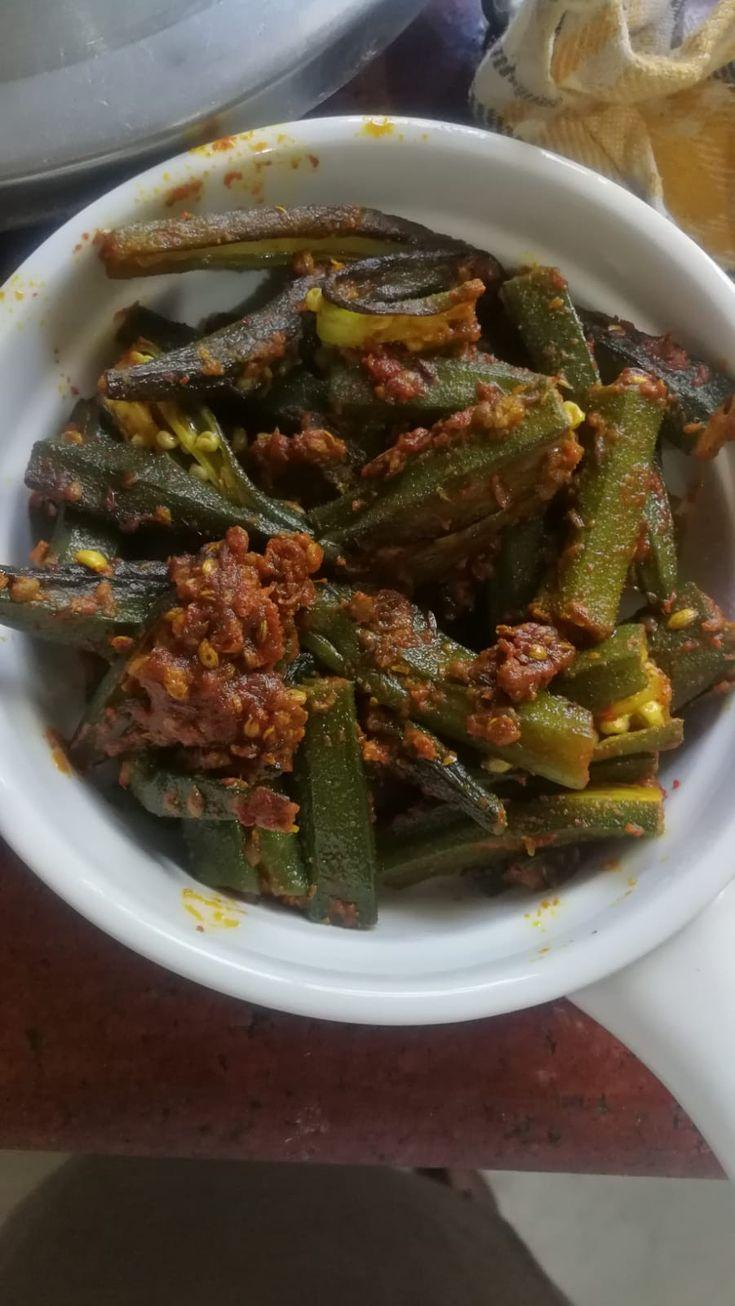bhindi: (76, 239, 700, 858)
